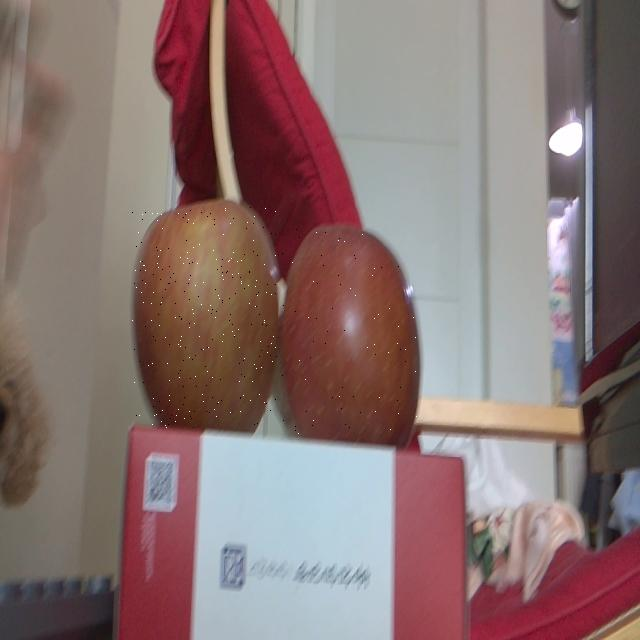apple: (132, 206, 277, 428), (279, 223, 420, 436)
